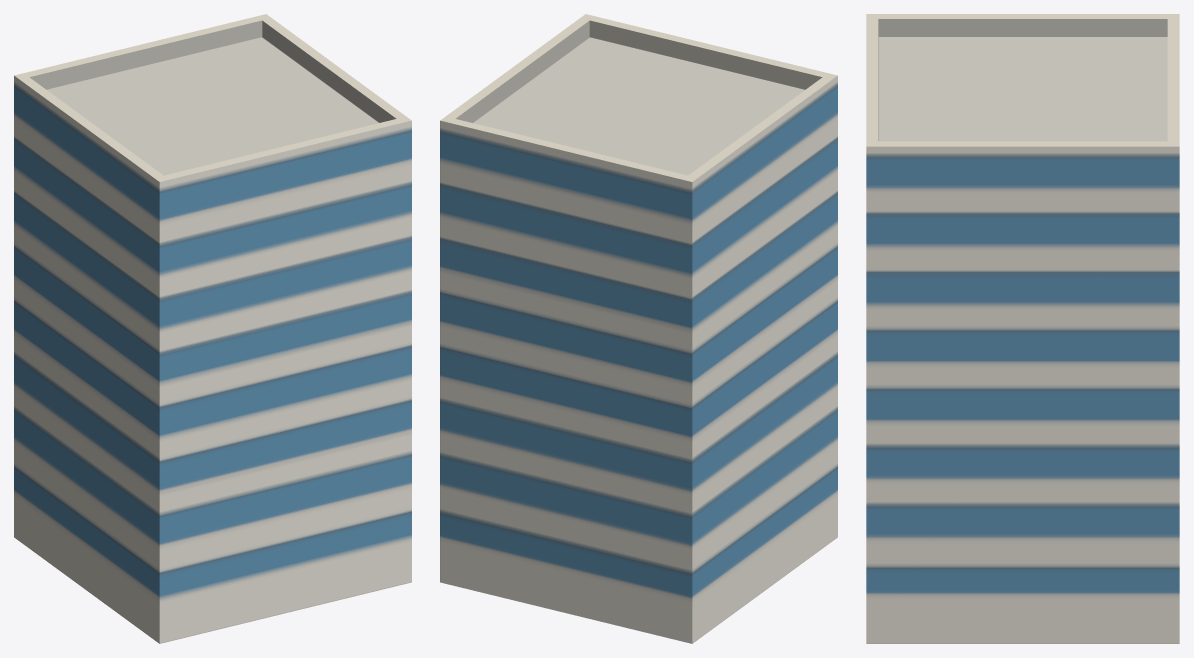
Rendered from building set 2_09.fbx.
3 renders of one model, left to right at view 1: azimuth 30°, elevation 25°; view 2: azimuth 150°, elevation 25°; view 3: azimuth 270°, elevation 25°, orthographic. The views are drawn at different scales.
Parts seen in each view (by area): view 1: pCube10; view 2: pCube10; view 3: pCube10.
Boxes of the visible parts, <box> form: pCube10: <box>14,14,411,643</box>; pCube10: <box>440,14,837,643</box>; pCube10: <box>866,14,1179,643</box>.
Size of the model in its own units: 4.25 by 7.44 by 4.25.
